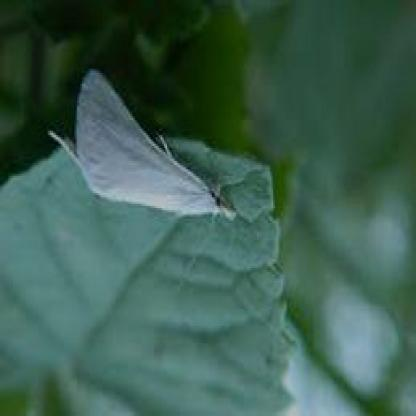stem-borer: (48, 67, 240, 225)
